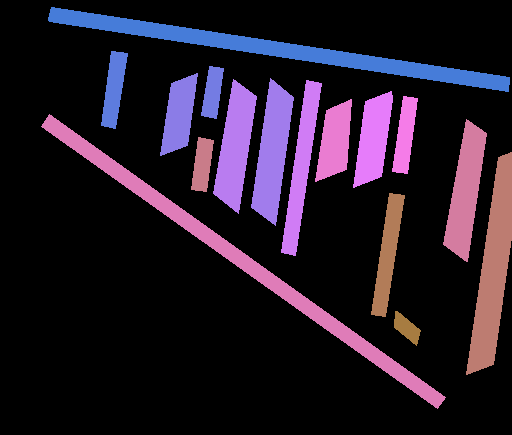parkingspot: (41, 114, 445, 408), (48, 7, 509, 91), (466, 152, 512, 374), (281, 80, 321, 255), (251, 78, 293, 225), (443, 119, 486, 261), (213, 79, 256, 213), (371, 193, 404, 316), (353, 91, 392, 187), (160, 73, 197, 155), (315, 99, 351, 181), (101, 51, 127, 128), (392, 96, 417, 173), (191, 137, 213, 191), (201, 66, 223, 118), (394, 311, 420, 345)
